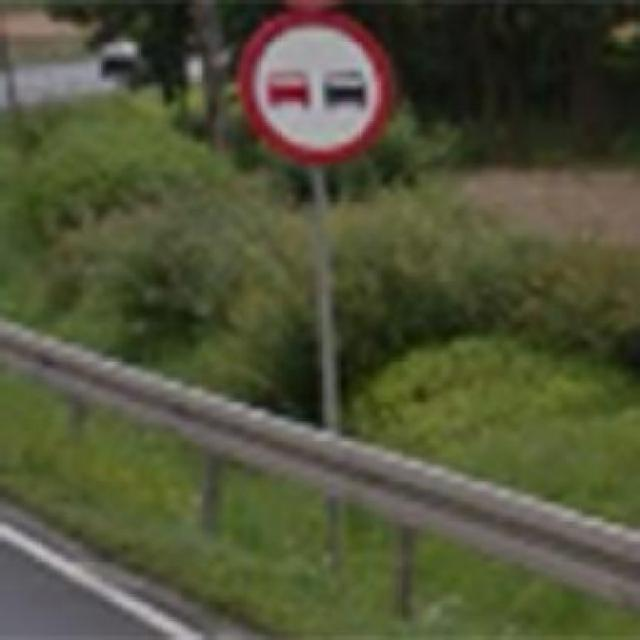Zakaz wyprzedzania: (238, 8, 393, 165)
